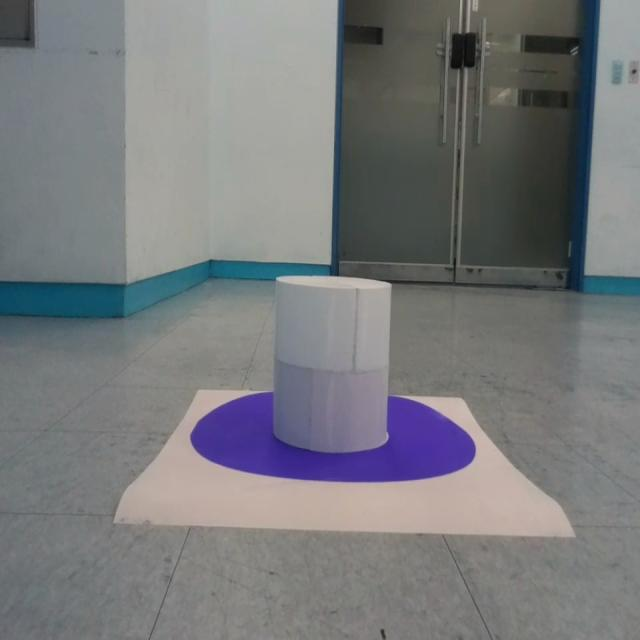cylinder: (271, 274, 392, 454)
